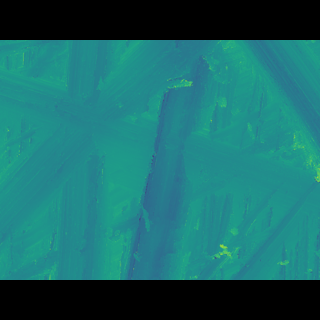Loch: (0, 69, 223, 226), (117, 97, 205, 252)
